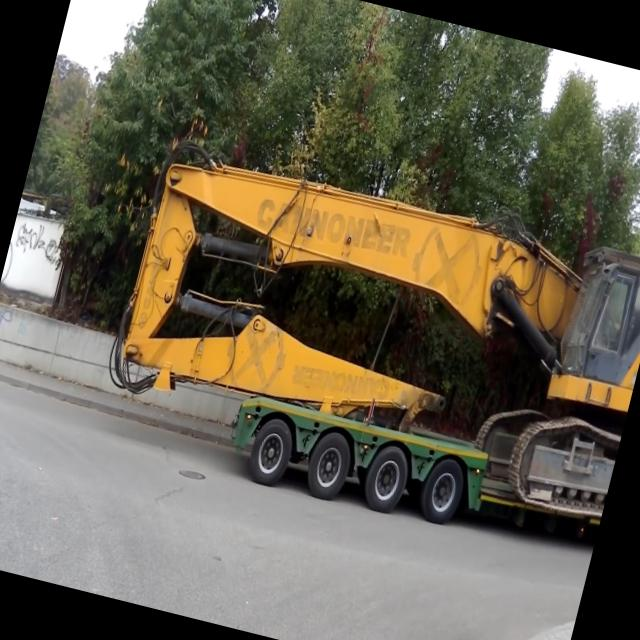Maquinaria: (102, 113, 612, 494), (463, 225, 640, 523)
